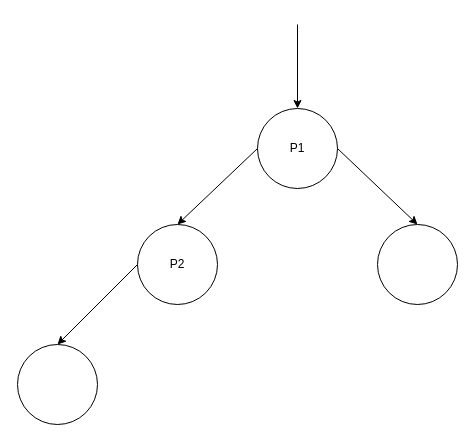
This 475x442 diagram has some shape labels left out. The shapes that lost their labels are listed below. From the top down, each one's box as (x1, y1, x2, y2) in pixels, then its label:
(376, 224, 458, 304): P3
(16, 344, 98, 424): P4
